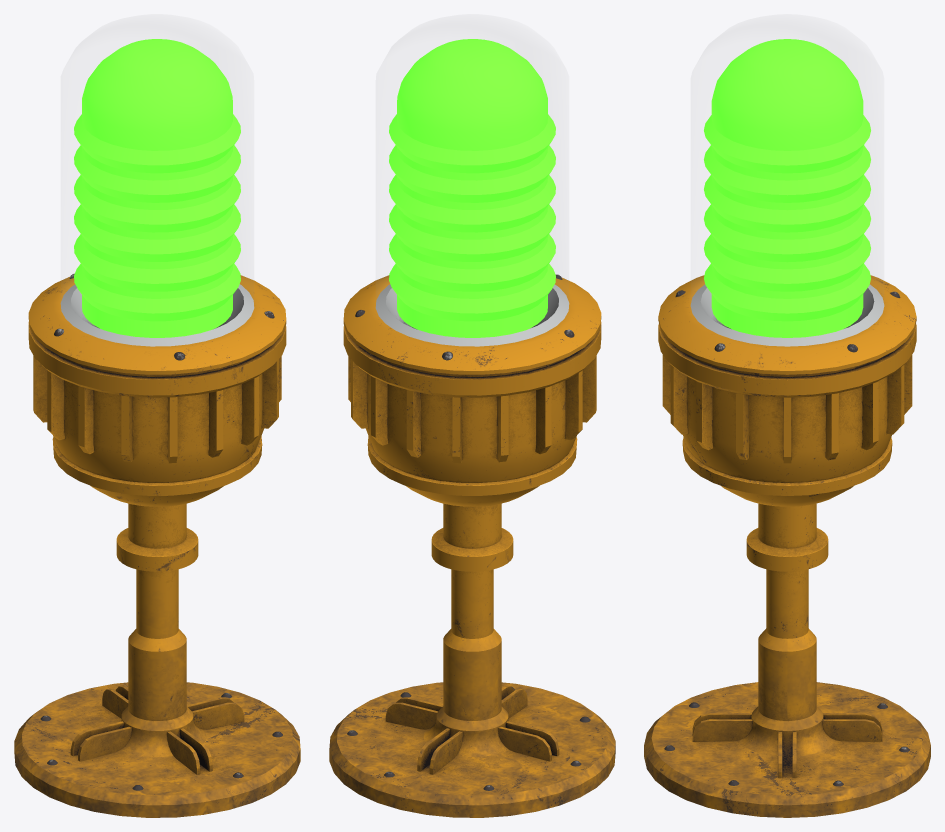
File: Runway-Lamp.gltf
3 renders of one model, left to right at view 1: azimuth 30°, elevation 25°; view 2: azimuth 150°, elevation 25°; view 3: azimuth 270°, elevation 25°, orthographic.
Visible parts, largest first — view 1: Lamp, Lamp_Light, Reflective, Bolts; view 2: Lamp, Lamp_Light, Reflective, Bolts; view 3: Lamp, Lamp_Light, Reflective, Bolts.
Boxes of the visible parts, x1,y1,x2,y2 form: Lamp: [14, 275, 300, 817]; Lamp_Light: [74, 39, 240, 337]; Reflective: [60, 284, 254, 346]; Bolts: [40, 273, 282, 790]; Lamp: [329, 275, 615, 817]; Lamp_Light: [389, 39, 555, 337]; Reflective: [375, 284, 569, 346]; Bolts: [347, 274, 590, 790]; Lamp: [644, 275, 930, 817]; Lamp_Light: [704, 39, 870, 337]; Reflective: [690, 284, 884, 346]; Bolts: [664, 290, 909, 786].
Size of the model in its own units: 0.168 by 0.4718 by 0.168.
